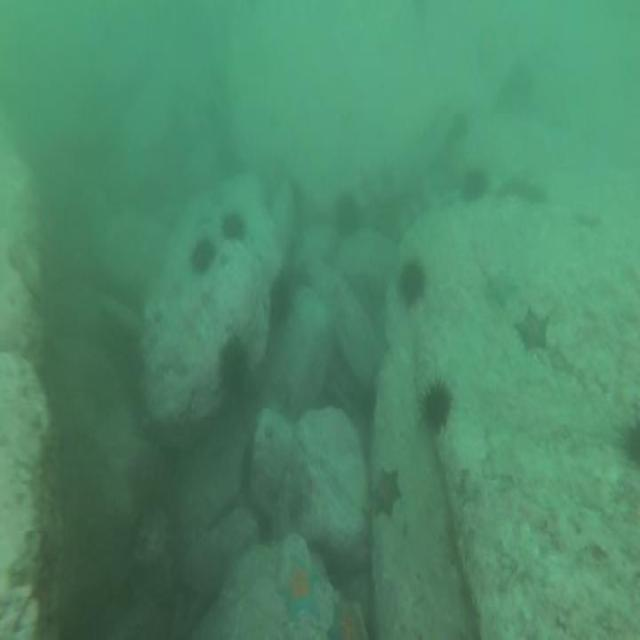echinus: (413, 373, 455, 442), (216, 330, 252, 403), (394, 256, 426, 316), (331, 186, 361, 246), (611, 410, 640, 469), (266, 273, 292, 327), (458, 164, 488, 210), (188, 236, 218, 282), (218, 206, 246, 247)
starfish: (275, 548, 325, 630), (512, 300, 552, 357), (322, 596, 368, 640), (369, 464, 403, 522), (482, 262, 518, 314)
